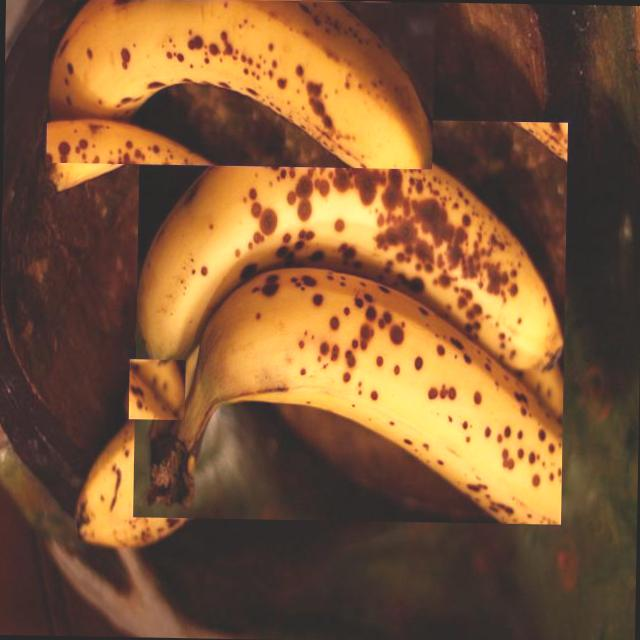Banana: (132, 167, 568, 524), (45, 0, 434, 169)
